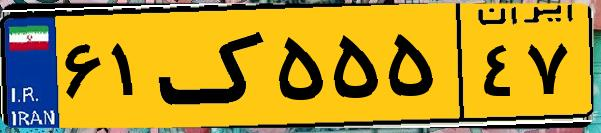1: (110, 28, 158, 98)
4: (475, 38, 525, 113)
5: (270, 28, 330, 110), (385, 28, 445, 110), (330, 28, 385, 110)
6: (57, 26, 110, 100)
7: (525, 38, 570, 115)
ک: (158, 12, 270, 120)
